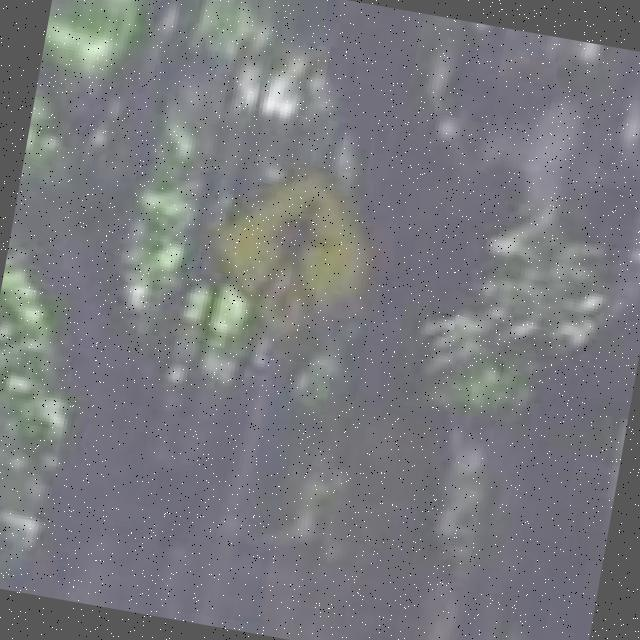Przejscie dla pieszych: (204, 161, 392, 345)
